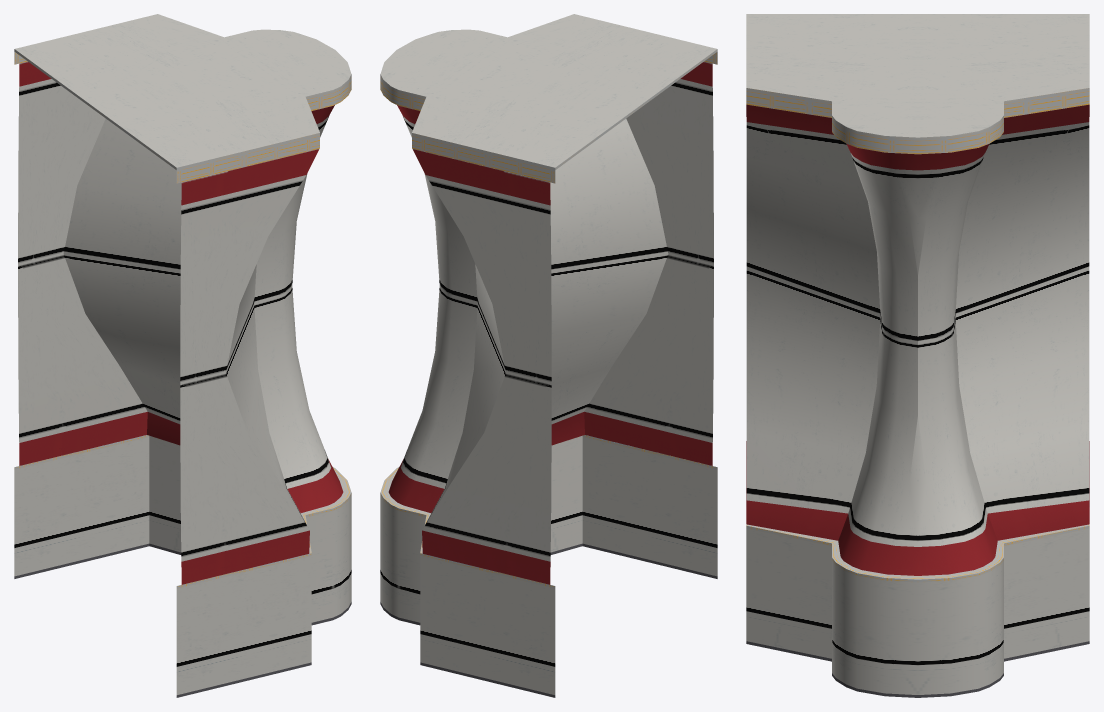
The model's file is G_Env_Arch_Wall_08_Pillar.fbx.
The picture shows the model from 3 angles, left to right: view 1: azimuth 30°, elevation 25°; view 2: azimuth 150°, elevation 25°; view 3: azimuth 270°, elevation 25°; orthographic projection. The views are drawn at different scales.
Visible parts, largest first — view 1: G_Env_Arch_Wall_08_Pillar; view 2: G_Env_Arch_Wall_08_Pillar; view 3: G_Env_Arch_Wall_08_Pillar.
Boxes of the visible parts, box(x1,y1,x2,y2) form: G_Env_Arch_Wall_08_Pillar: box(14, 14, 351, 697); G_Env_Arch_Wall_08_Pillar: box(380, 14, 717, 697); G_Env_Arch_Wall_08_Pillar: box(746, 14, 1089, 697).
Size of the model in its own units: 426 by 900 by 500.
